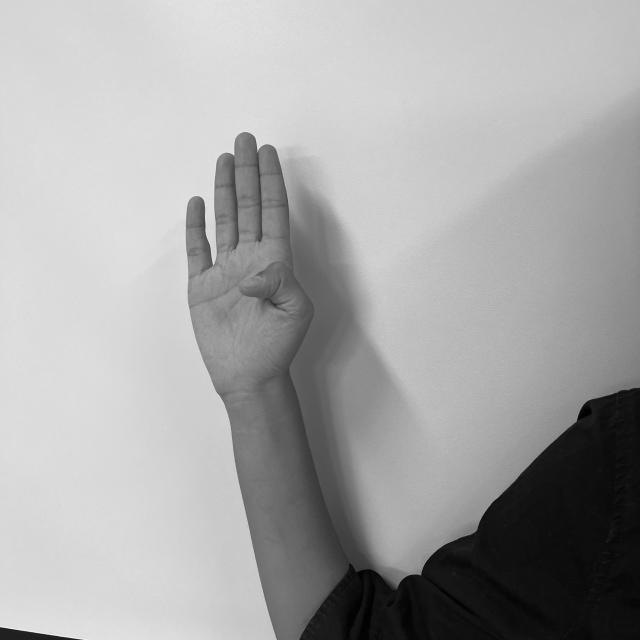Letra B: (179, 125, 321, 396)
